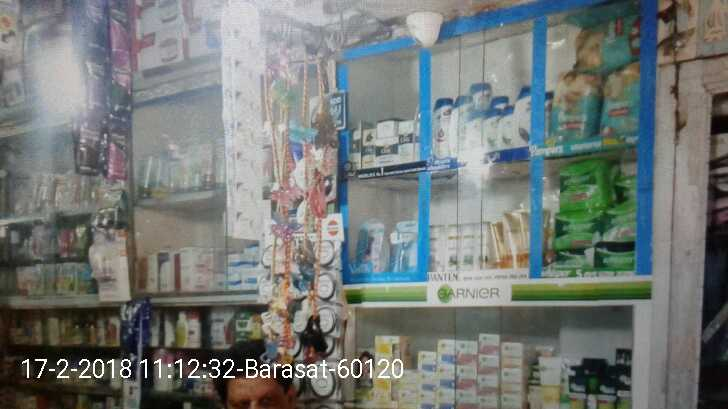venus: (384, 219, 417, 270), (356, 218, 384, 270)
